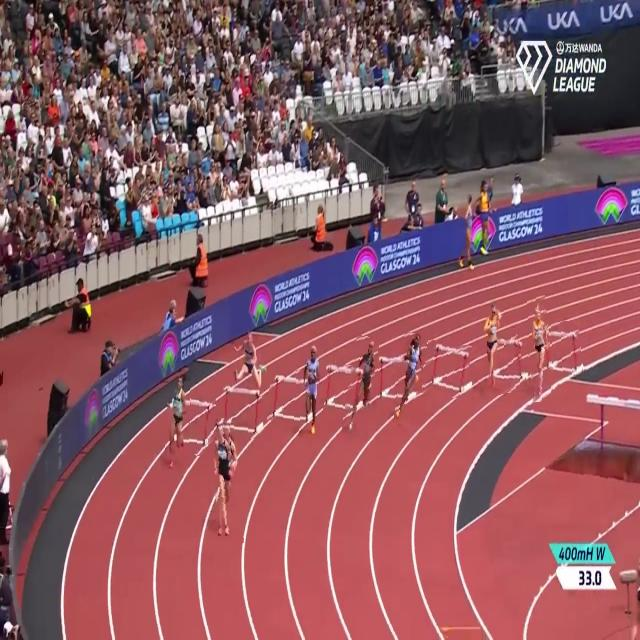athlete: (210, 419, 240, 545), (345, 336, 377, 437), (524, 296, 553, 402), (396, 332, 426, 426), (166, 369, 190, 476), (230, 330, 267, 396), (479, 302, 504, 388), (300, 344, 319, 444)
hurdle: (423, 342, 471, 398), (172, 394, 215, 456), (484, 335, 526, 394), (541, 321, 582, 379), (268, 368, 310, 423), (221, 382, 262, 438), (325, 363, 363, 416), (378, 350, 411, 405)
